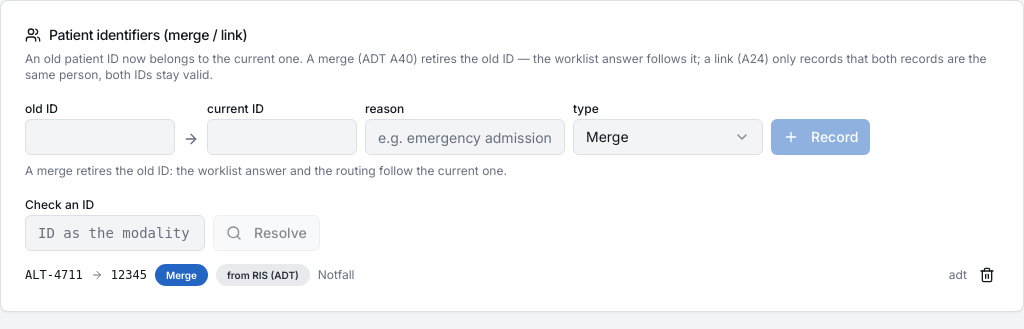
Scenario: PatientMergeCard › explains that an unchanged ID stays as it is
Check: the list with test id "merge-list" is shown, box [25,263,999,287]
Type "X" into the field labelled "Check an ID" at x=115, y=233, box [25,215,205,251]
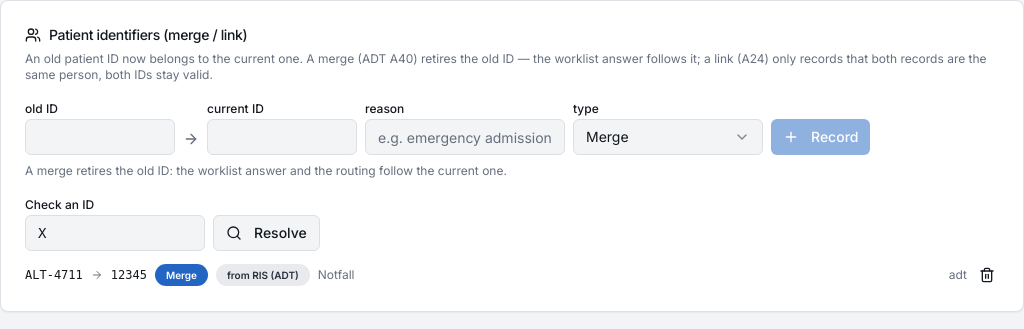
Click the button "Resolve" at x=266, y=233, box [213,215,320,251]
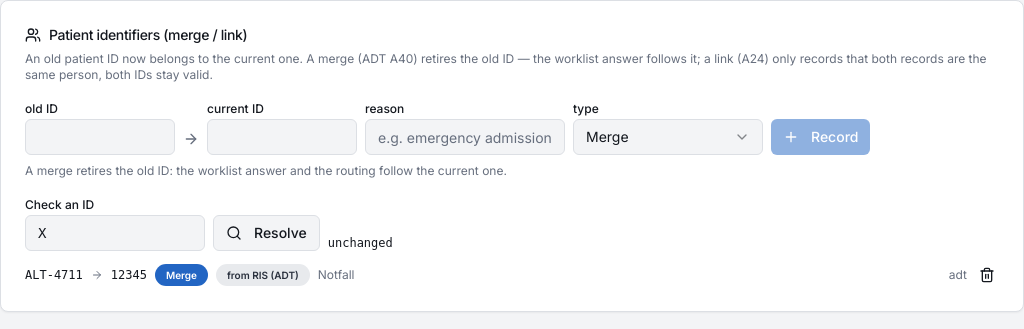
Check: the message with test id "merge-probe-result" reads "unchanged", box [328,236,393,250]
